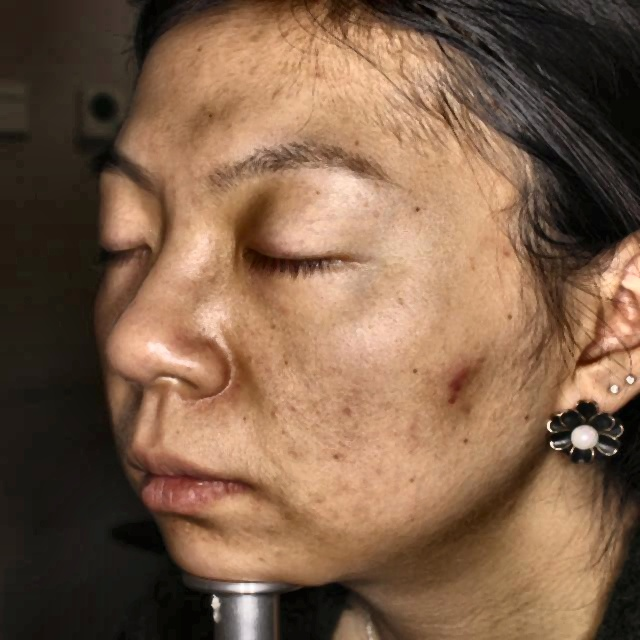comedone: (437, 362, 486, 398)
